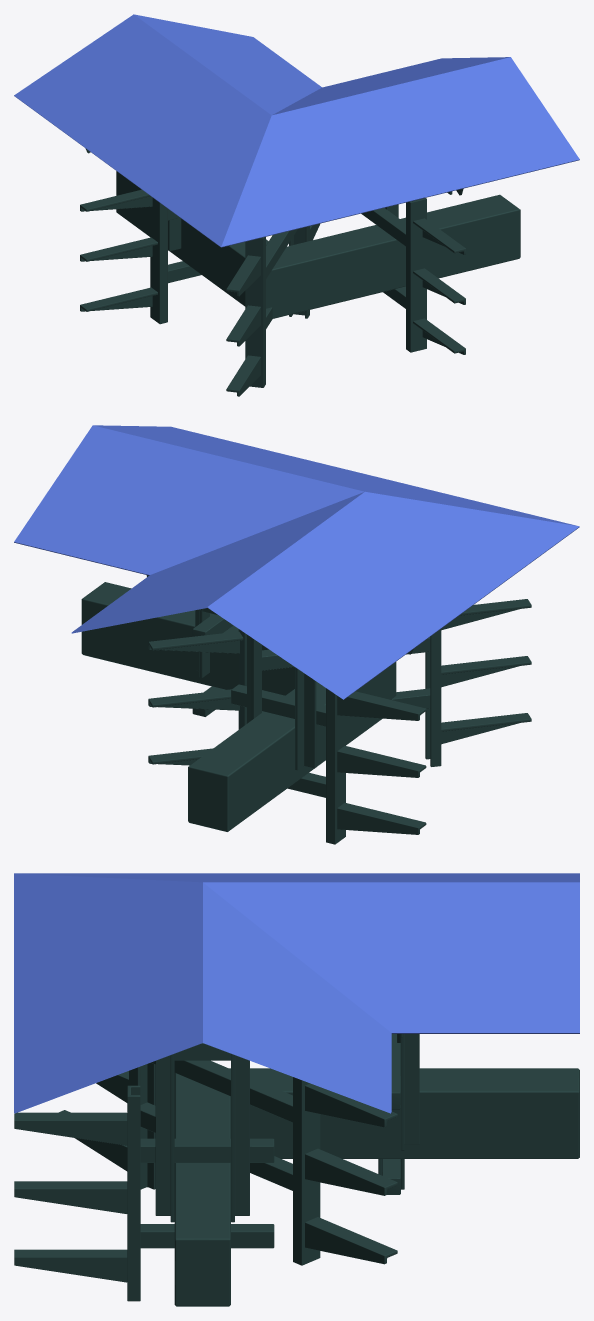
Rendered from SM_Turn.fbx.
3 views of the same model, one above another, from view 1: azimuth 30°, elevation 25°; view 2: azimuth 150°, elevation 25°; view 3: azimuth 270°, elevation 25° (orthographic). The views are drawn at different scales.
Parts seen in each view (by area): view 1: SM_Turn_LOD0; view 2: SM_Turn_LOD0; view 3: SM_Turn_LOD0.
Boxes of the visible parts, x1,y1,x2,y2 form: SM_Turn_LOD0: [14, 14, 579, 396]; SM_Turn_LOD0: [14, 425, 579, 844]; SM_Turn_LOD0: [14, 873, 579, 1306].
Size of what is drawn, in the model's own units: 150 by 97.69 by 150.
